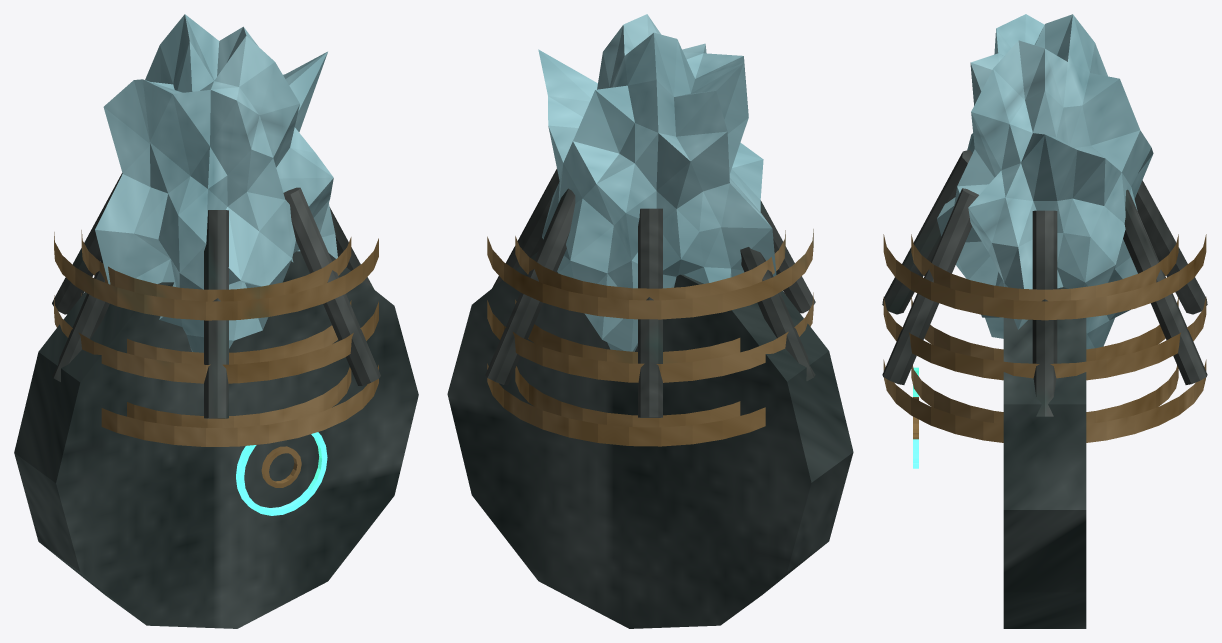
Rendered from 0999_offering_relic_24.glb.
3 views of the same model, side by side, from view 1: azimuth 30°, elevation 25°; view 2: azimuth 150°, elevation 25°; view 3: azimuth 270°, elevation 25° (orthographic).
Parts seen in each view (by area): view 1: stone_dark, ice, brass, iron, glow; view 2: stone_dark, ice, brass, iron; view 3: ice, brass, stone_dark, iron.
Boxes of the visible parts, bbox=[...] form: stone_dark: bbox=[14, 251, 418, 628]; ice: bbox=[95, 14, 337, 352]; brass: bbox=[54, 230, 378, 487]; iron: bbox=[52, 173, 380, 418]; glow: bbox=[236, 432, 327, 515]; stone_dark: bbox=[447, 252, 853, 628]; ice: bbox=[538, 14, 776, 351]; brass: bbox=[487, 229, 813, 446]; iron: bbox=[485, 169, 815, 417]; ice: bbox=[937, 14, 1153, 349]; brass: bbox=[883, 234, 1206, 442]; stone_dark: bbox=[1003, 283, 1086, 628]; iron: bbox=[882, 150, 1207, 416].
Size of the model in its own units: 0.9 by 1.41 by 0.7056.
Materials: 5 (5 with a texture image).
